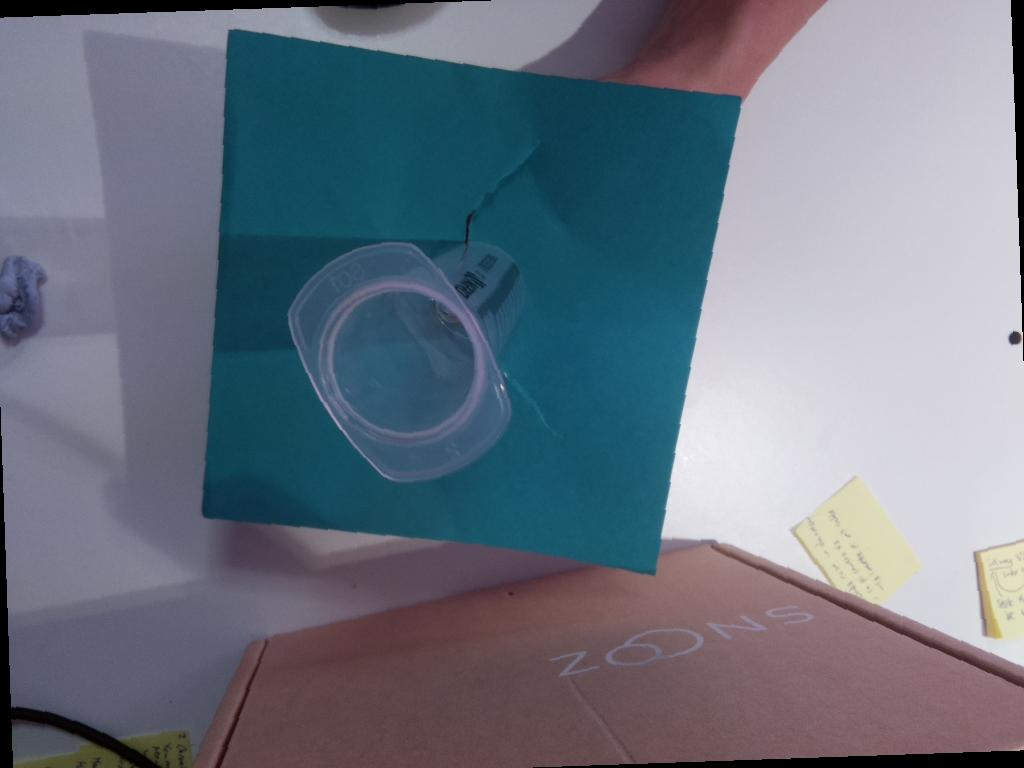clean: (284, 241, 512, 485)
